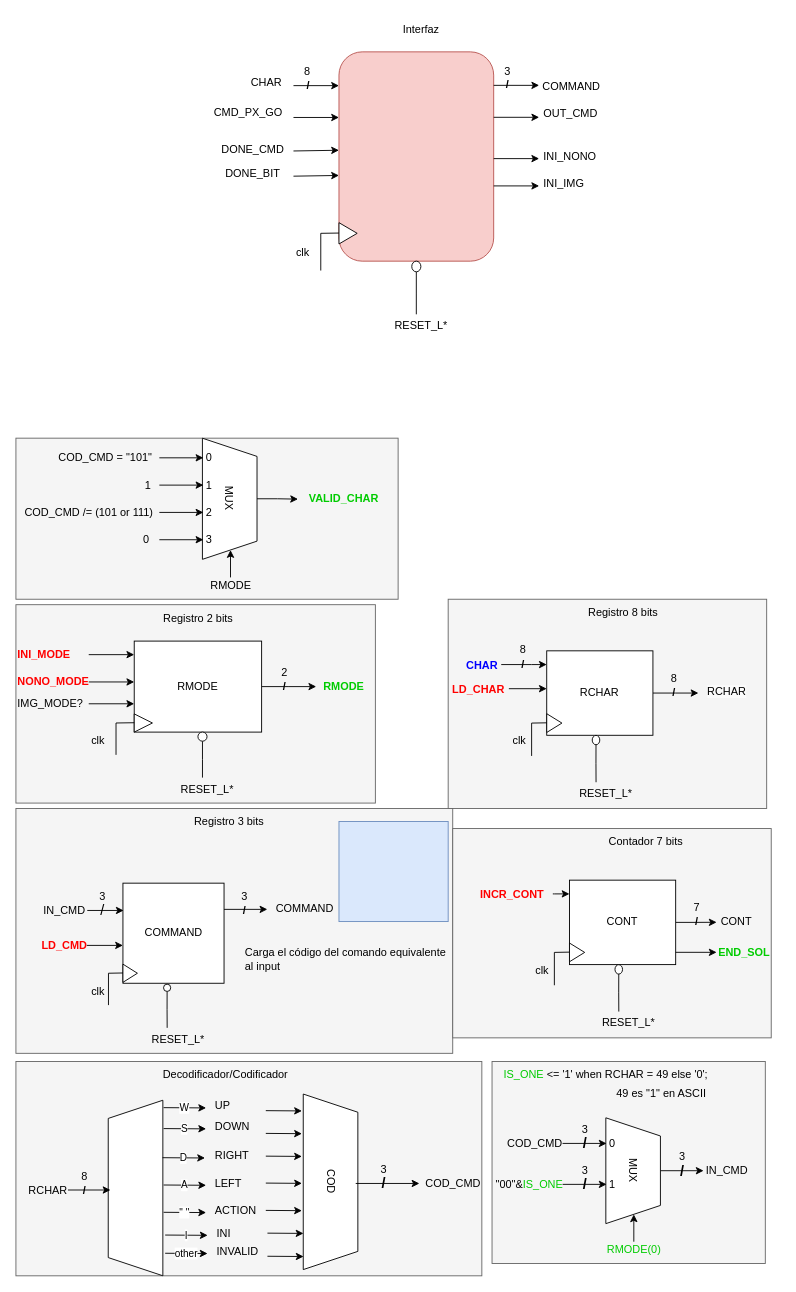
This 796x1292 diagram has some shape labels left out. Here are the shapes that lost their labels. From the top down, the box of each, then its label:
(338, 51, 494, 261): CMD_PROCESS
(338, 821, 448, 922): UP = 000 DOWN = 001 LEFT = 010 RIGHT = 011 ACTION = 100 INI = 101 INVALIDO = 111
(107, 1099, 163, 1276): DEC
